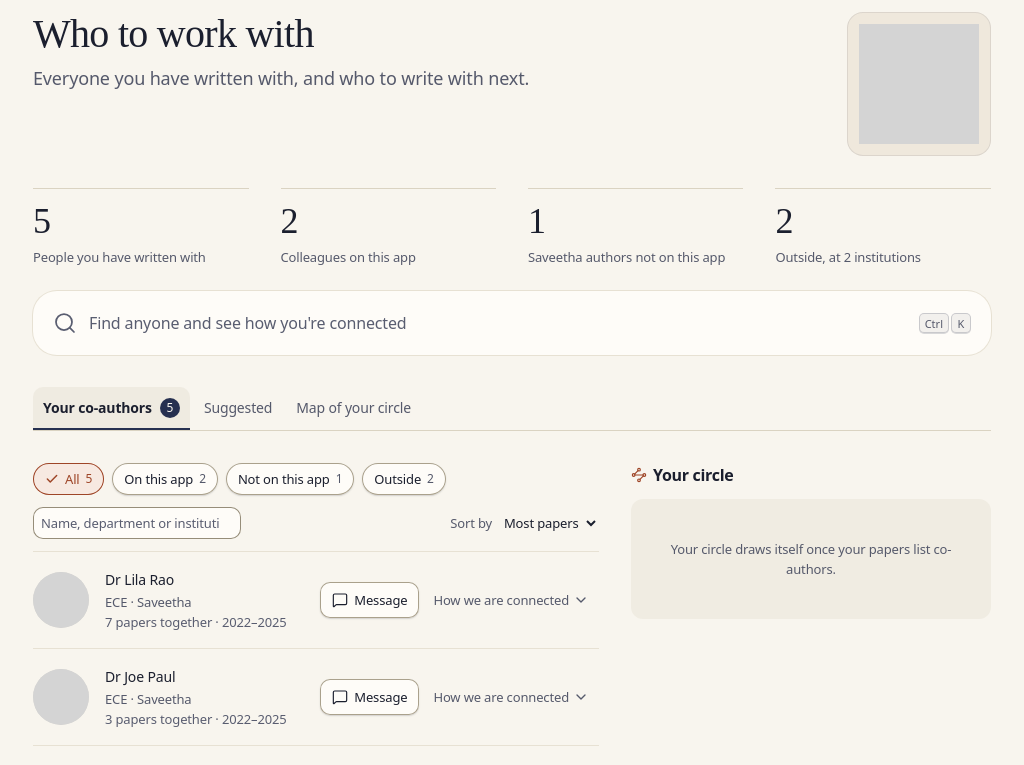
Scenario: Who to work with › finds a co-author by name and says when nobody matches
Check: the button "Dr Lila Rao" is shown, box [105,568,174,592]
Type "anna" into the search field named "Find in your co-authors" at (137, 523), box [33,507,241,539]
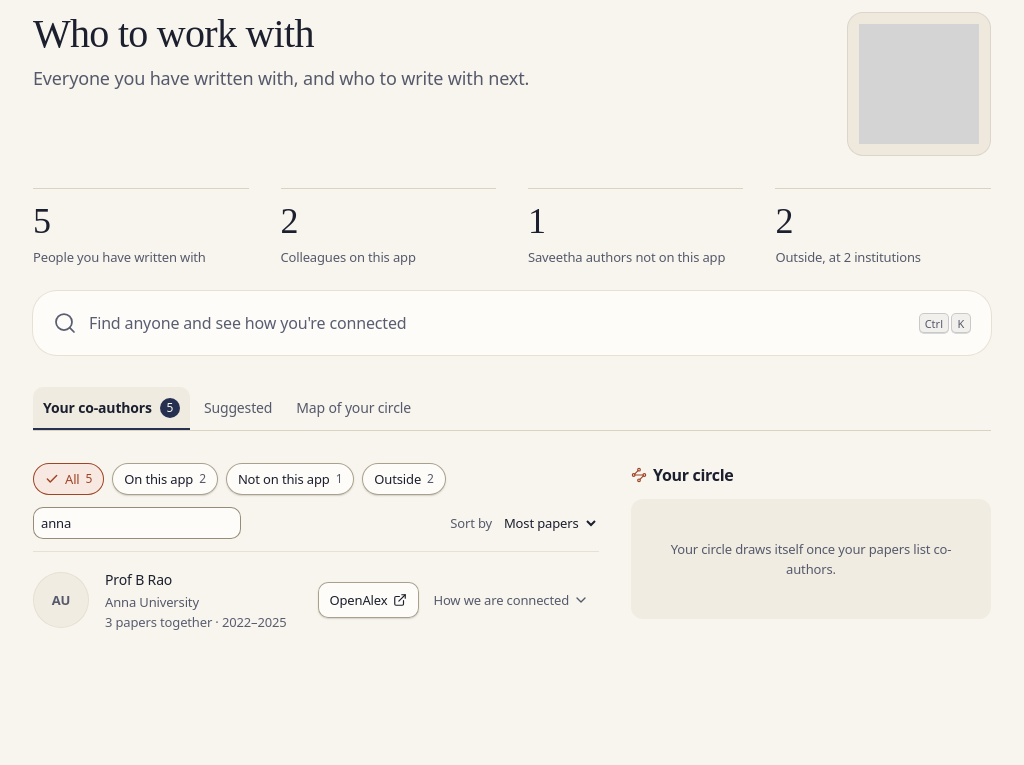
Check: the text "Prof B Rao" is shown, box [105,570,172,589]
Check: the button "Dr Lila Rao" is gone
Replace the text in the search field named "Find in your co-authors" with "zzz" at (137, 523), box [33,507,241,539]
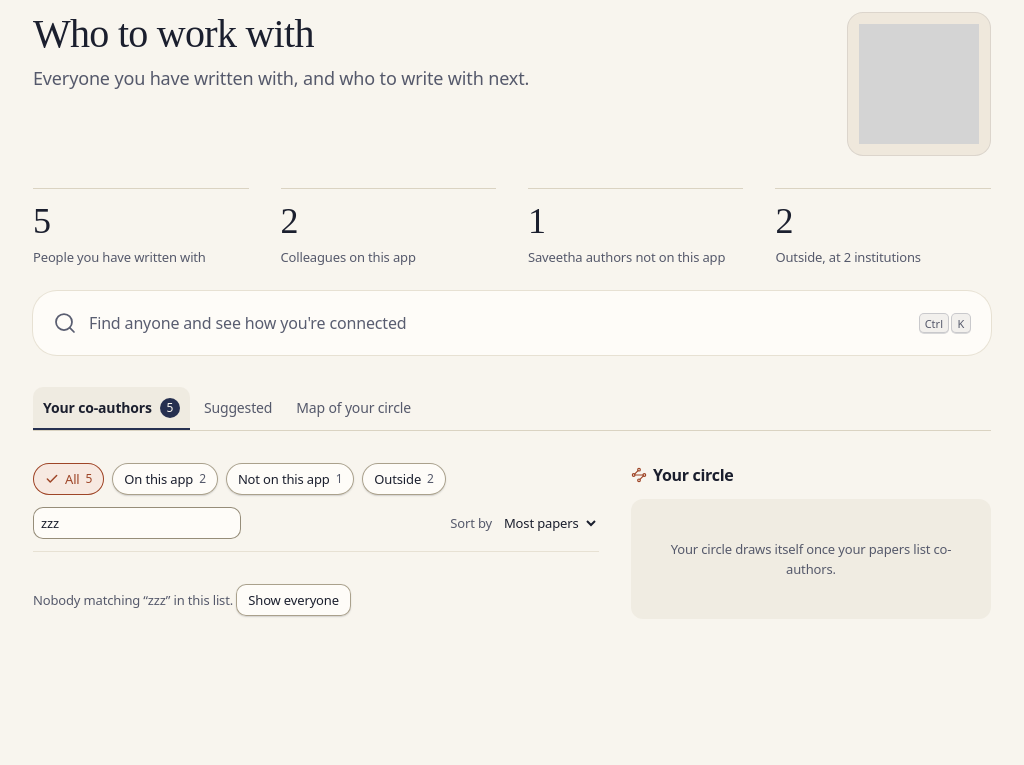
Check: the text "Nobody matching “zzz” in this list. Show everyone" is shown, box [33,584,351,616]
